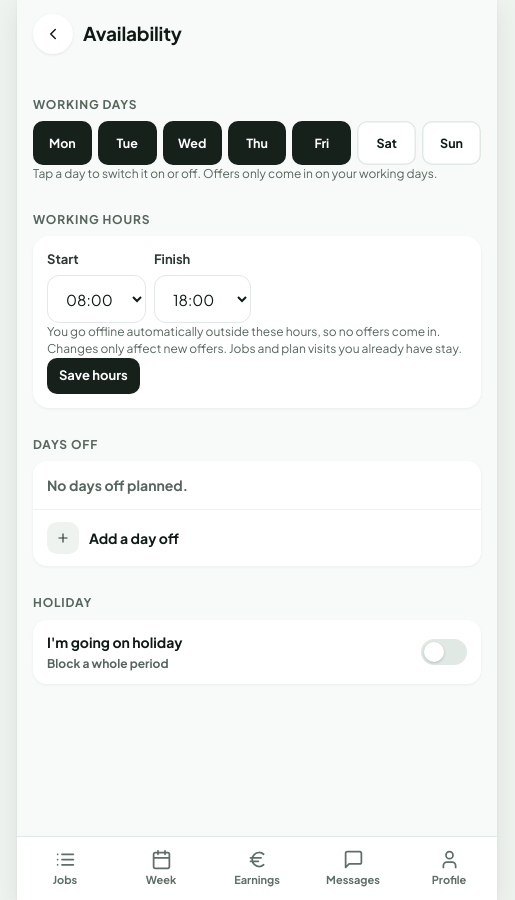
it: Availability (D99) › switches working days on and off, keeps at least one, and saves the hours
The width and height of the screenshot is (515, 900).
Click the button with aria-label "Saturday" at coordinates (387, 143), box [357,121,416,165]
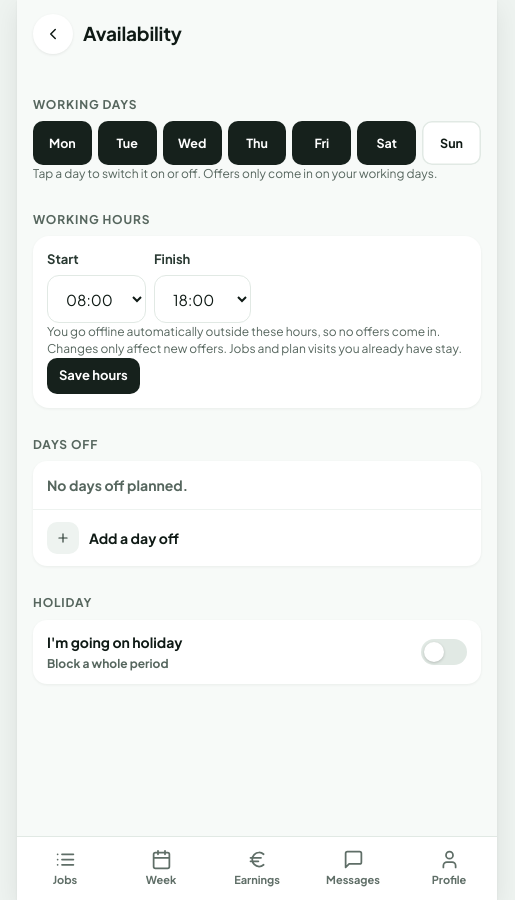
Check: the button with aria-label "Saturday" is pressed, box [357,121,416,165]
Select "07:00" in the dropdown labelled "Start" at coordinates (96, 299), box [47,275,146,323]
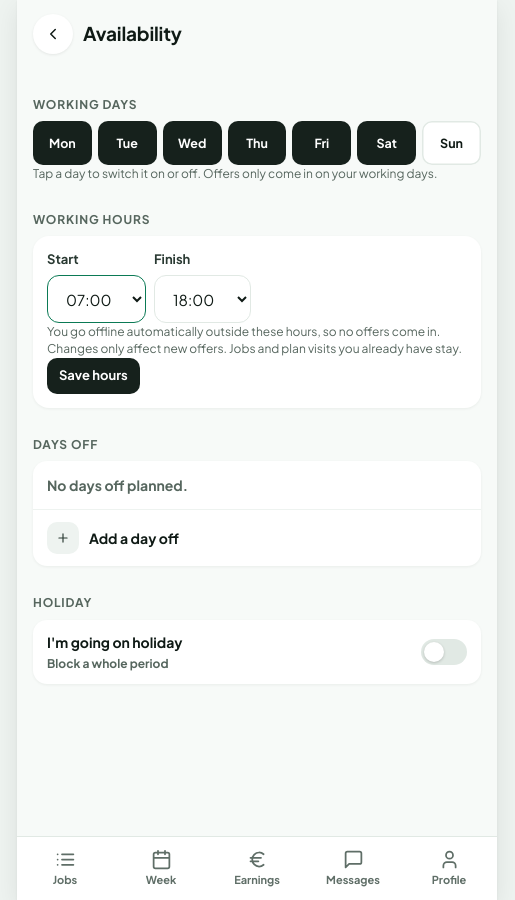
Select "20:00" in the dropdown labelled "Finish" at coordinates (202, 299), box [154,275,251,323]
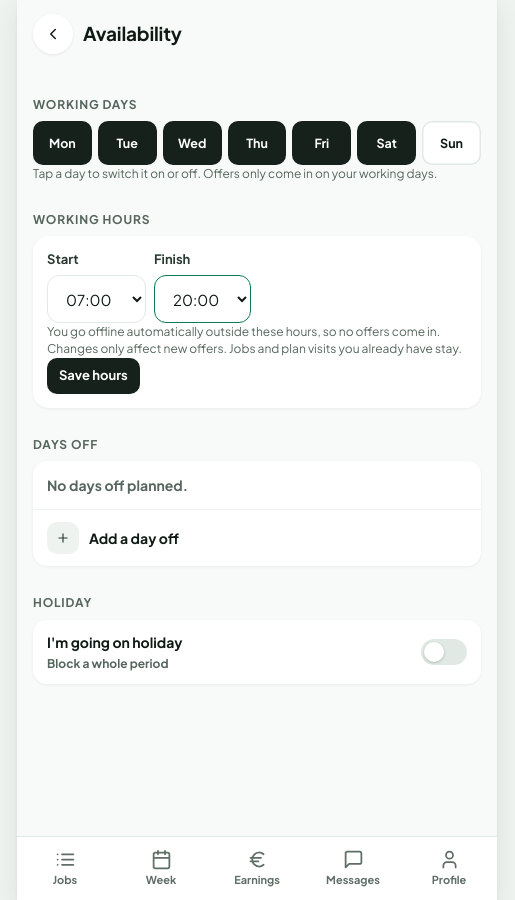
Click the button "Save hours" at coordinates (93, 376), box [47,358,140,394]
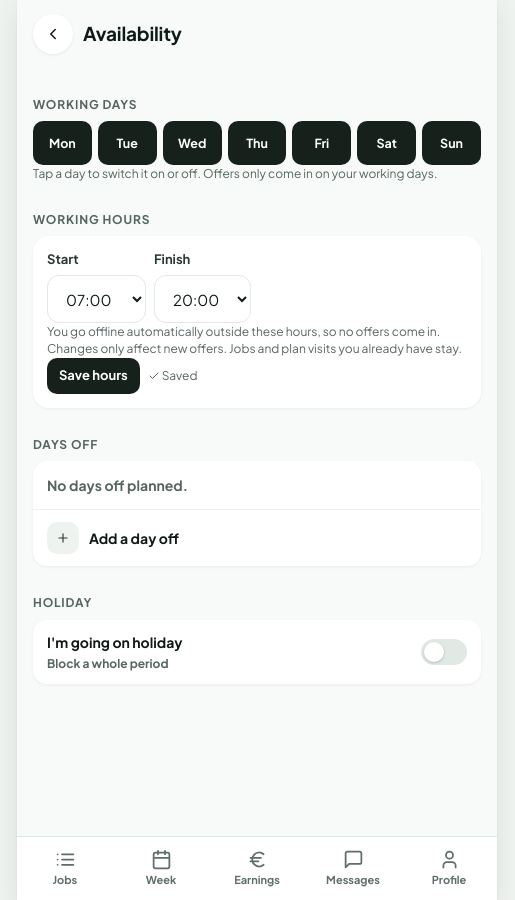
Check: the text "Changes only affect new offers. Jobs and plan visits you already have stay." is shown, box [47,340,467,358]
Check: the text "Saved" is shown, box [148,367,198,384]
